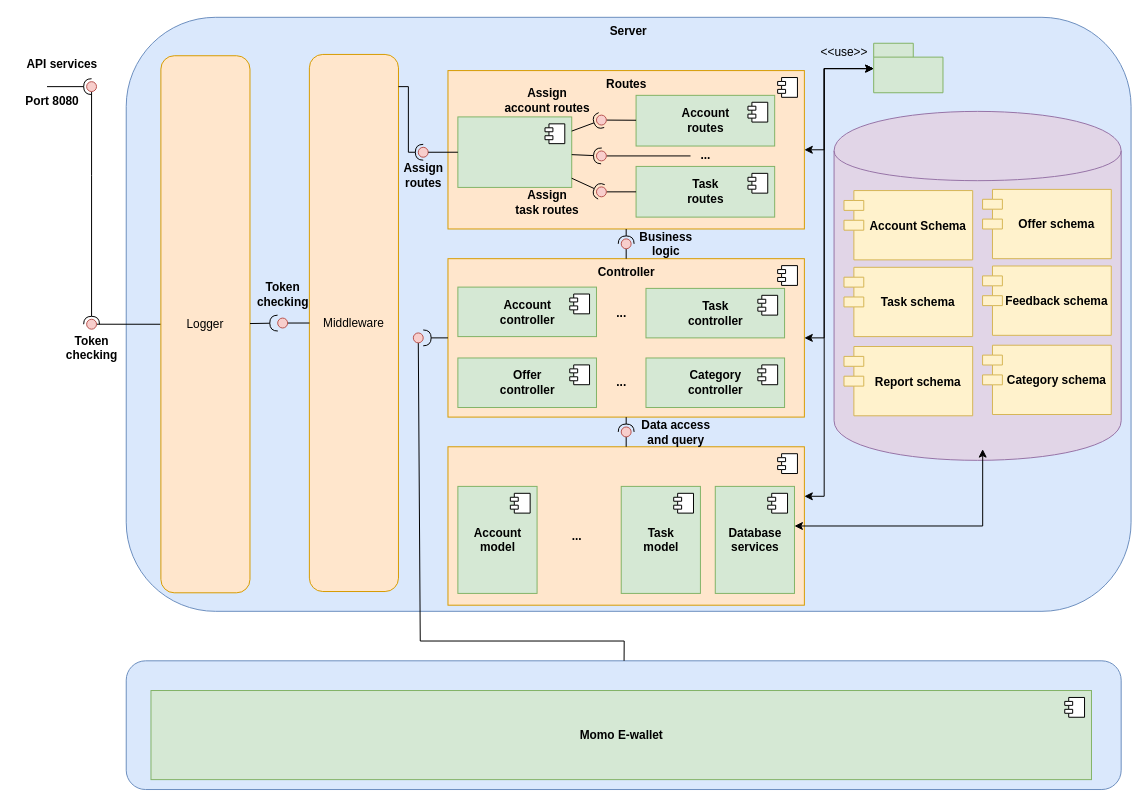
The diagram is 1148 pixels wide and 807 high, and some of its shapes have lost their labels. Here are the shapes that lost their labels. From the top down, the box of each, then its label:
(873, 42, 943, 93): Config
(457, 116, 572, 187): Main routes
(833, 110, 1121, 460): MariaDB
(447, 446, 804, 605): Models
(125, 660, 1121, 790): Banking system
